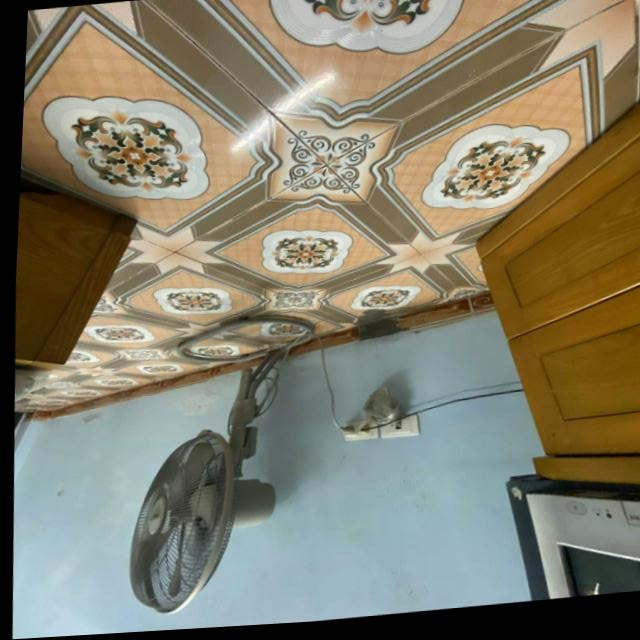outlet: (377, 414, 419, 439), (341, 420, 378, 443)
